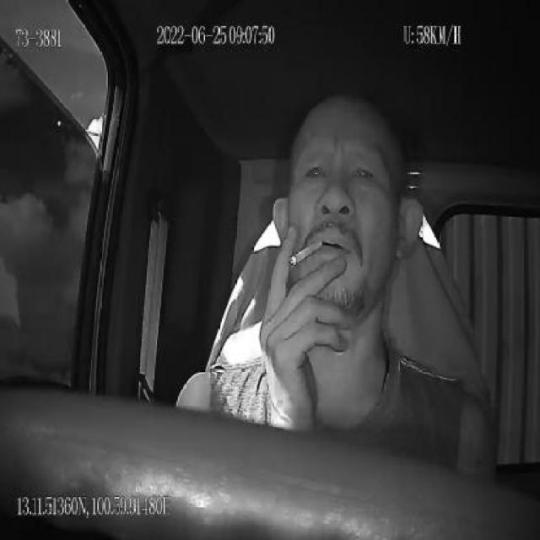smoking: (288, 238, 324, 270)
